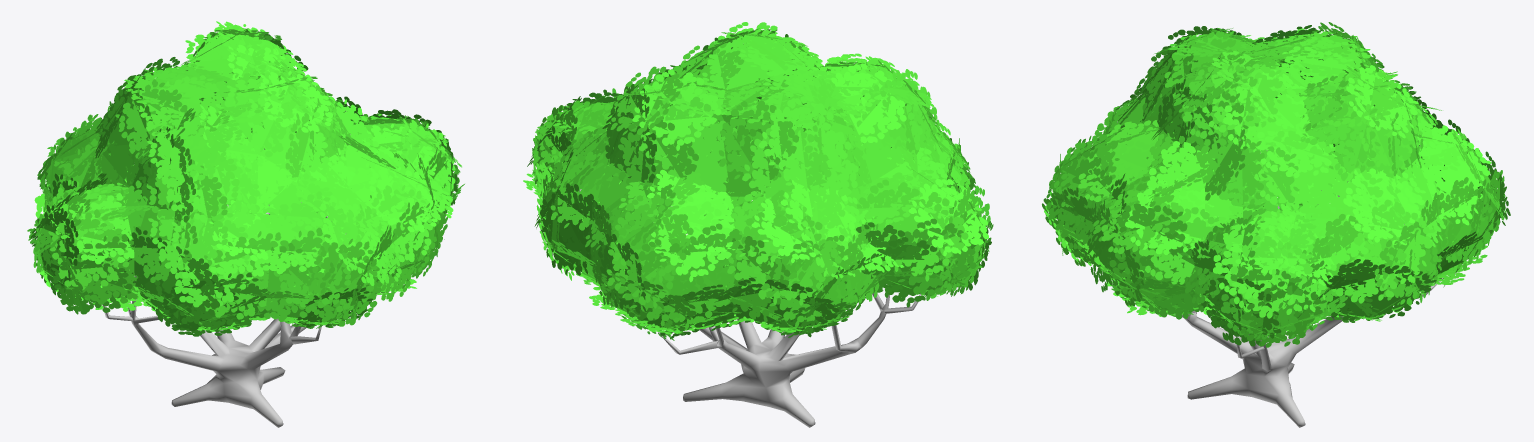
File: Tree C 1.fbx
3 renders of one model, left to right at view 1: azimuth 30°, elevation 25°; view 2: azimuth 150°, elevation 25°; view 3: azimuth 270°, elevation 25°, orthographic. The views are drawn at different scales.
Parts seen in each view (by area): view 1: Tree C 1 LOD0; view 2: Tree C 1 LOD0; view 3: Tree C 1 LOD0.
Part boxes in pixels (x1,y1,x2,y2): Tree C 1 LOD0: (27,21,464,427); Tree C 1 LOD0: (523,22,993,427); Tree C 1 LOD0: (1042,22,1510,427).
Size of what is drawn, in the model's own units: 6.7 by 5.49 by 7.3.
